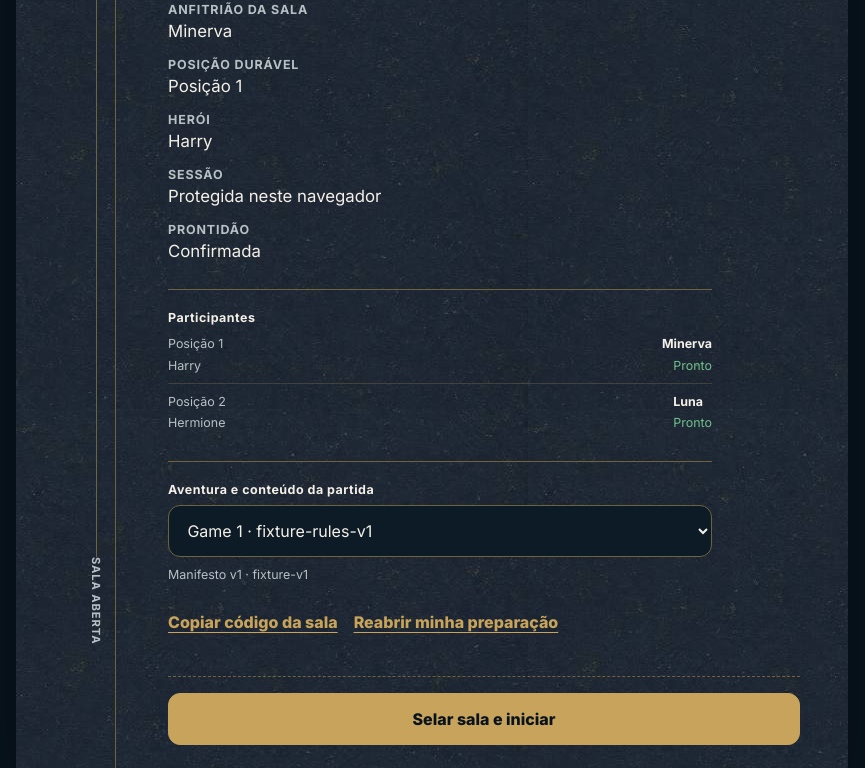
Test: application shell › lets a ready host seal the room and renders only the redacted initial projection
This screenshot has width=865, height=768.
(page scrolled)
Click the button "Selar sala e iniciar" at x=484, y=719, box [168,693,800,745]
(page scrolled)
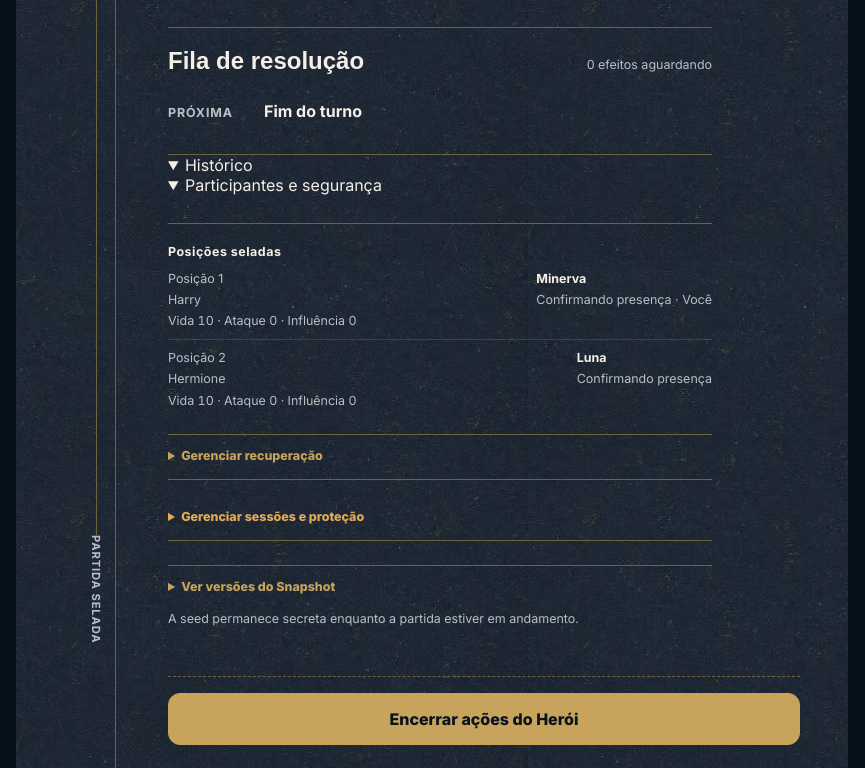
Check: the text "0 efeitos aguardando" is shown, box [587,56,712,74]
Check: the text "Fim do turno" is shown, box [264,101,362,121]
Check: the text "A seed permanece secreta enquanto a partida estiver em andamento." is shown, box [168,611,579,626]
